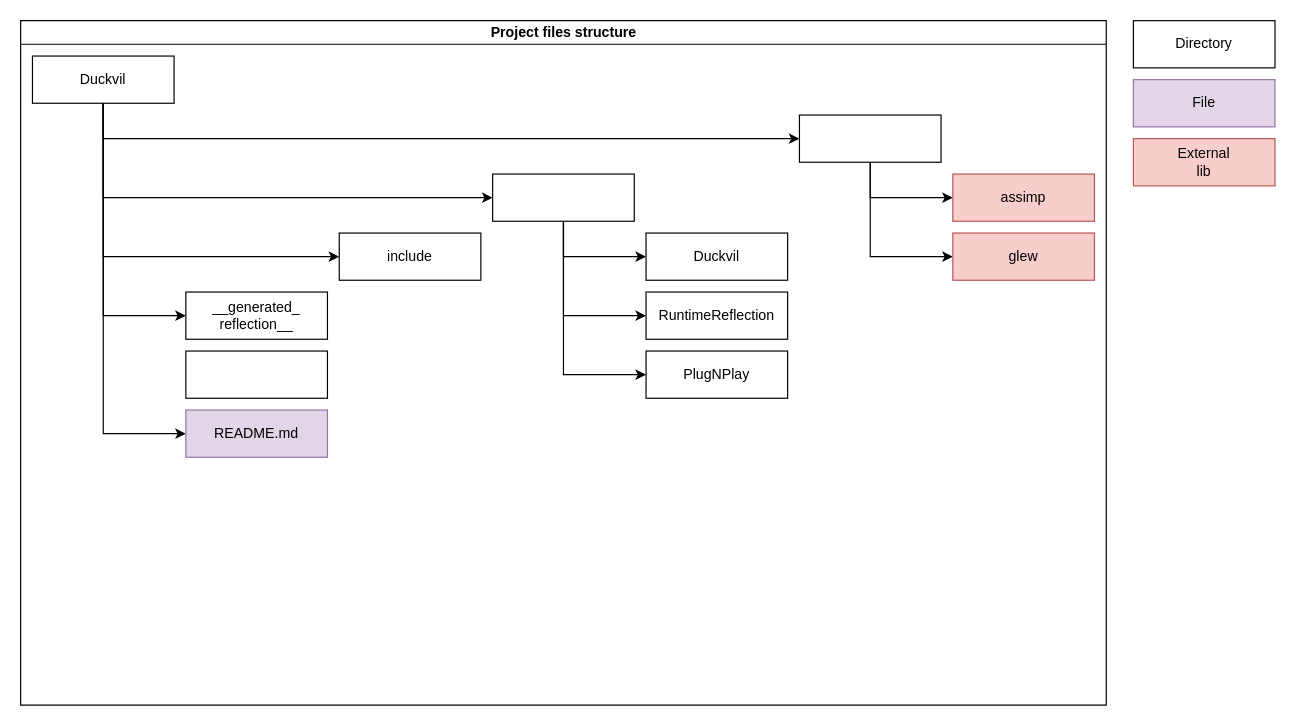
Image size: 1296x726. Some labels were removed from this diagram. Here are the shapes that lost their labels. From the top down, the box of each, then its label:
(798, 114, 941, 162): external
(491, 173, 634, 221): source
(185, 350, 327, 398): bin
